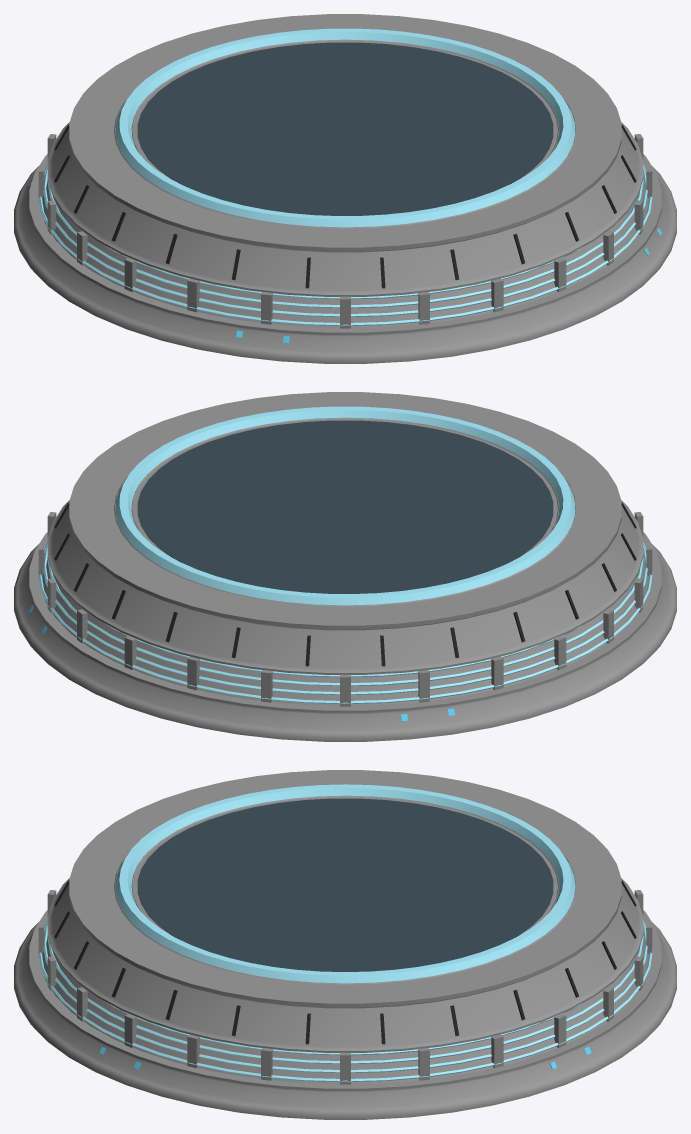
Rendered from Core_Pedestal.fbx.
3 renders of one model, top to bottom at view 1: azimuth 30°, elevation 25°; view 2: azimuth 150°, elevation 25°; view 3: azimuth 270°, elevation 25°, orthographic.
Visible parts, largest first — view 1: Core_Pedestal_LOD0; view 2: Core_Pedestal_LOD0; view 3: Core_Pedestal_LOD0.
Part boxes in pixels (x1,y1,x2,y2): Core_Pedestal_LOD0: (14, 14, 676, 363); Core_Pedestal_LOD0: (14, 392, 676, 741); Core_Pedestal_LOD0: (14, 770, 676, 1119).
Size of what is drawn, in the model's own units: 7.76 by 1.29 by 7.76.
